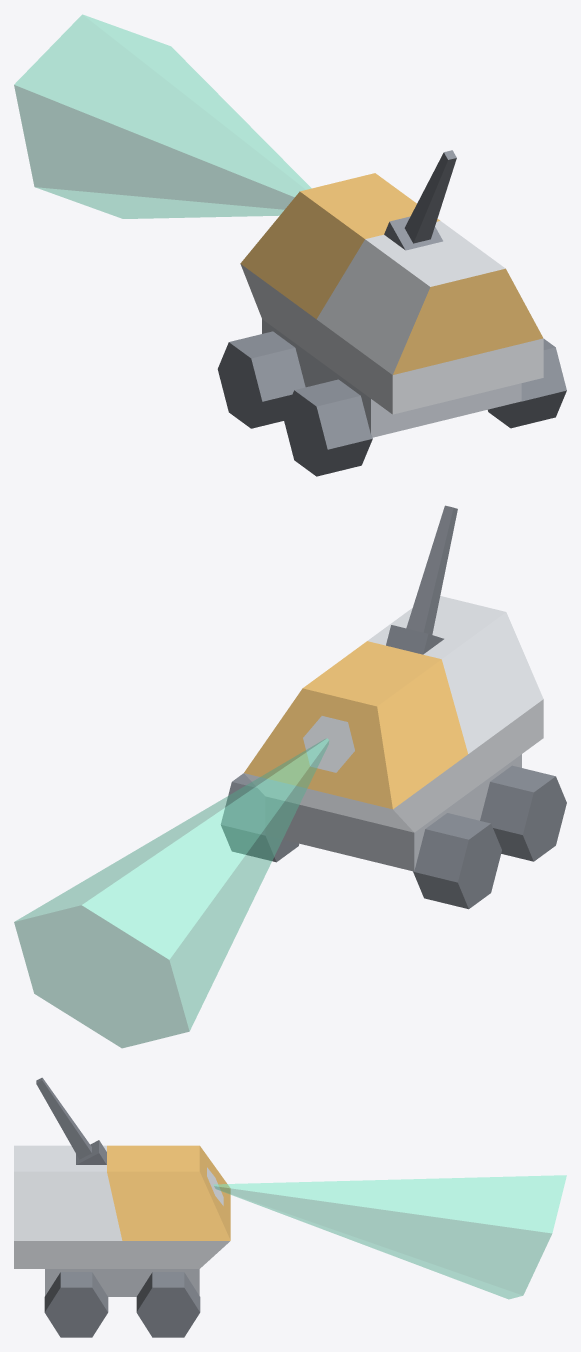
Rendered from rover.glb.
3 views of the same model, one above another, from view 1: azimuth 30°, elevation 25°; view 2: azimuth 150°, elevation 25°; view 3: azimuth 270°, elevation 25° (orthographic). The views are drawn at different scales.
Visible parts, largest first — view 1: unit_rover, effect, wheel_bl, wheel_fl, wheel_br; view 2: unit_rover, effect, wheel_fl, wheel_bl, wheel_fr; view 3: unit_rover, effect, wheel_fr, wheel_br.
Part boxes in pixels (bbox=[...]): unit_rover: bbox=[240, 150, 543, 437]; effect: bbox=[14, 14, 311, 218]; wheel_bl: bbox=[283, 379, 372, 476]; wheel_fl: bbox=[217, 331, 305, 428]; wheel_br: bbox=[488, 339, 566, 428]; unit_rover: bbox=[244, 505, 543, 871]; effect: bbox=[14, 738, 329, 1048]; wheel_fl: bbox=[413, 813, 501, 909]; wheel_bl: bbox=[480, 765, 566, 861]; wheel_fr: bbox=[221, 773, 299, 862]; unit_rover: bbox=[14, 1077, 230, 1296]; effect: bbox=[213, 1175, 566, 1299]; wheel_fr: bbox=[136, 1272, 200, 1337]; wheel_br: bbox=[44, 1272, 108, 1337].
Bounding box in the file's own units: 2.65 × 3.25 × 7.42.
